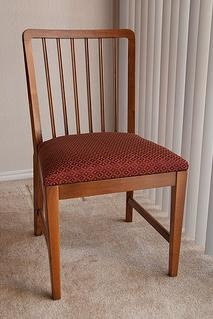obstacle: (23, 29, 187, 298)
